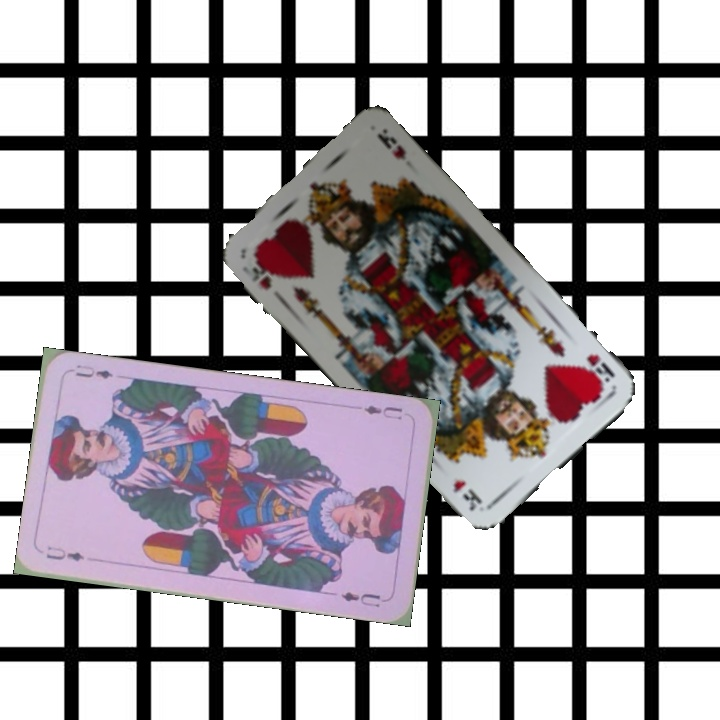EU: (42, 542, 87, 564), (360, 401, 405, 422)
HK: (579, 349, 618, 393), (247, 249, 275, 293)
